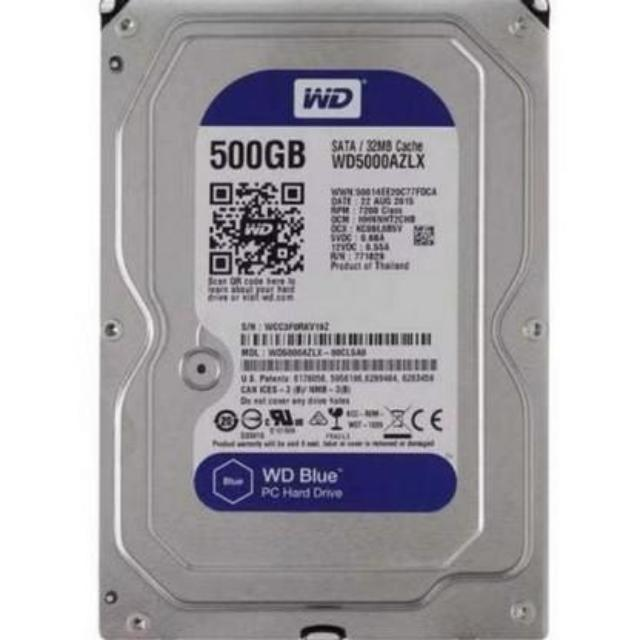DISK: (89, 0, 557, 640)
